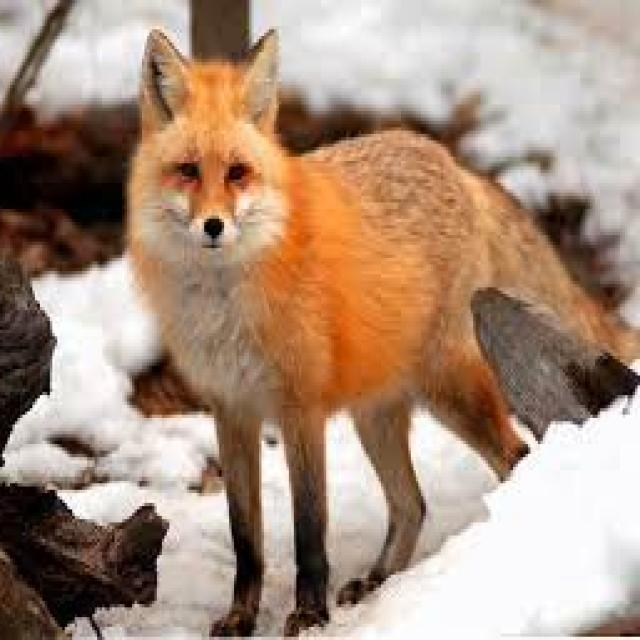fox: (129, 29, 640, 630)
